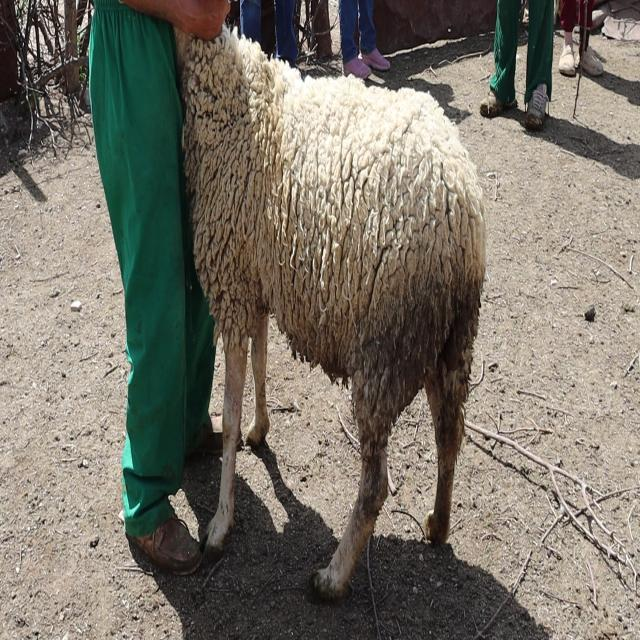Score_5: (174, 28, 485, 600)
